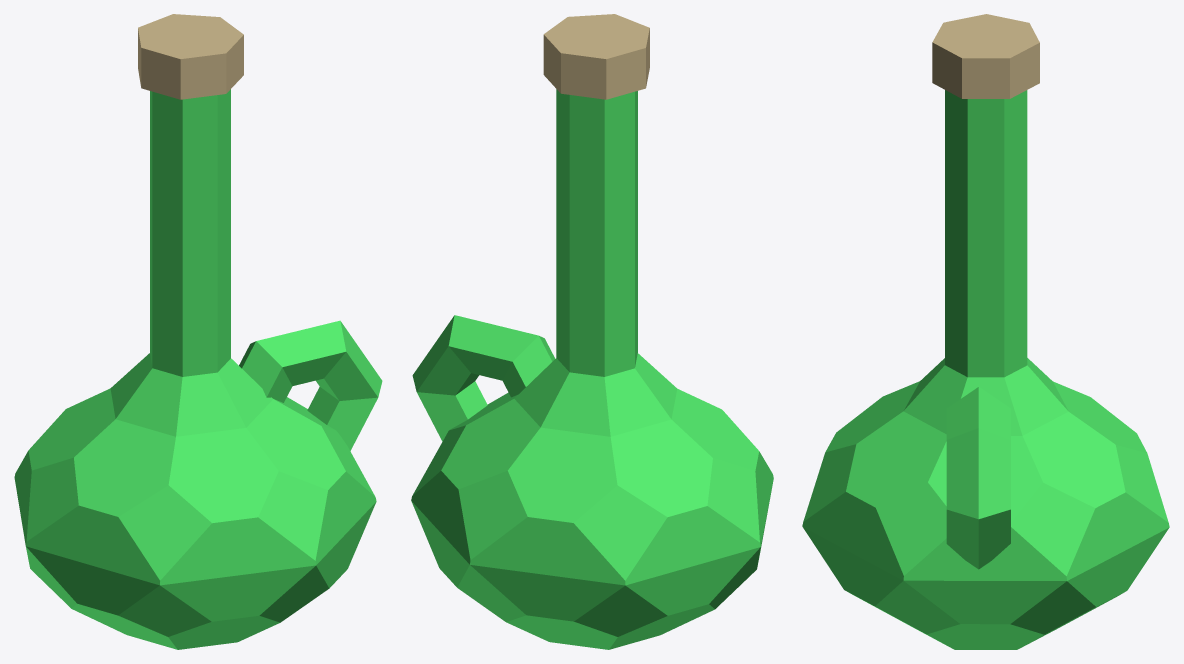
File: LongHandlePotion.011.fbx
3 views of the same model, side by side, from view 1: azimuth 30°, elevation 25°; view 2: azimuth 150°, elevation 25°; view 3: azimuth 270°, elevation 25° (orthographic).
Visible parts, largest first — view 1: LongHandlePotion.011; view 2: LongHandlePotion.011; view 3: LongHandlePotion.011.
Part boxes in pixels (x1,y1,x2,y2): LongHandlePotion.011: [14, 14, 382, 649]; LongHandlePotion.011: [411, 14, 773, 649]; LongHandlePotion.011: [802, 14, 1169, 649].
Size of the model in its own units: 14.76 by 23.36 by 13.29.
